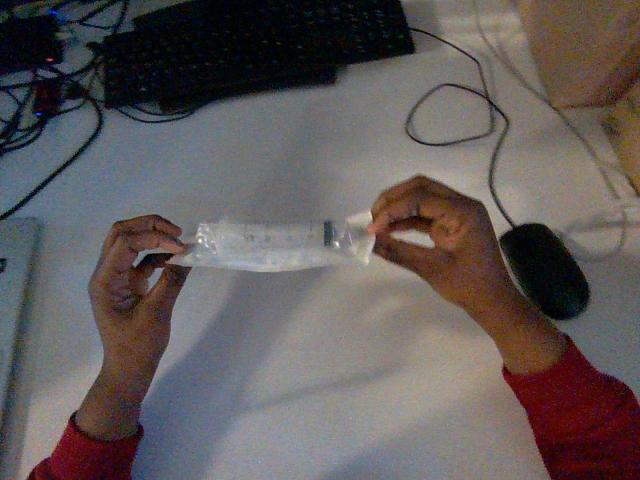syringe: (169, 212, 374, 271)
